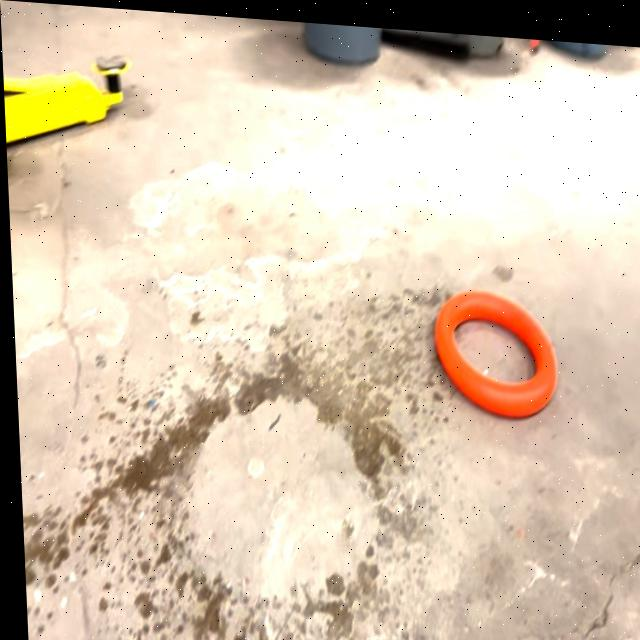note: (430, 284, 556, 417)
